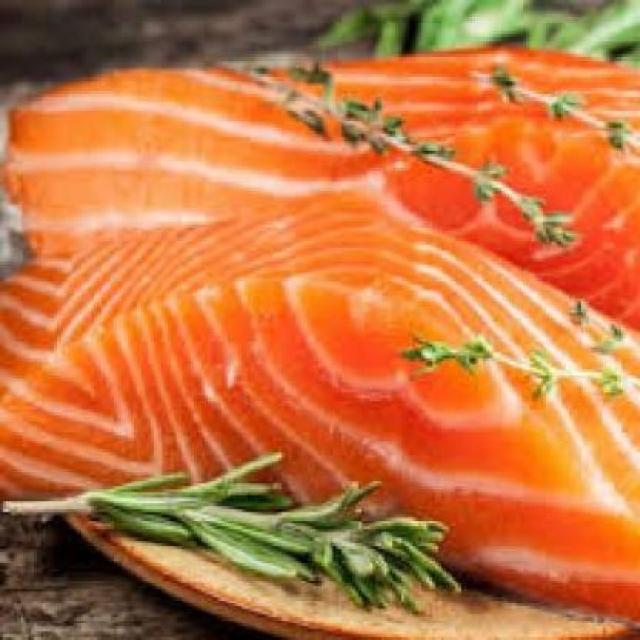salmon: (3, 198, 638, 620), (11, 46, 639, 353)
